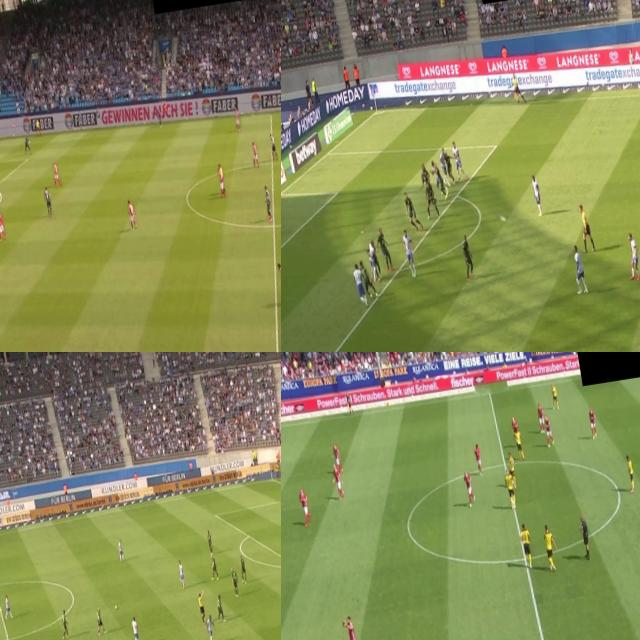ball: (500, 211, 508, 227), (114, 602, 120, 612), (512, 498, 516, 506)
player: (516, 524, 536, 571), (570, 244, 588, 296), (376, 228, 396, 274), (400, 229, 418, 279), (358, 258, 378, 302), (352, 264, 371, 308), (540, 521, 557, 568), (404, 189, 422, 232), (459, 233, 476, 278), (622, 448, 639, 493), (625, 231, 640, 281), (422, 181, 440, 219), (330, 453, 345, 498), (461, 467, 477, 507), (585, 401, 599, 444), (450, 138, 465, 178), (343, 615, 367, 640), (430, 158, 446, 195), (530, 173, 544, 214), (367, 239, 381, 280), (542, 412, 556, 452), (508, 410, 522, 449), (504, 467, 518, 506), (471, 437, 485, 476), (297, 485, 311, 524), (419, 162, 434, 198), (261, 180, 275, 218), (368, 244, 384, 276), (438, 145, 450, 187), (507, 448, 519, 488), (215, 162, 228, 198), (535, 397, 547, 435), (272, 255, 281, 303), (126, 194, 138, 230), (331, 438, 343, 474), (41, 183, 54, 216), (549, 379, 562, 412), (513, 426, 526, 459), (94, 603, 106, 636), (444, 152, 456, 184), (238, 550, 250, 581), (59, 606, 70, 639), (215, 592, 227, 622), (268, 129, 278, 159), (51, 158, 62, 185), (130, 613, 141, 640), (2, 592, 12, 620), (206, 615, 217, 640), (250, 139, 260, 166), (22, 130, 32, 156), (205, 530, 215, 556), (210, 553, 220, 578), (231, 570, 240, 596), (178, 561, 186, 589), (116, 538, 126, 559), (0, 204, 6, 237), (234, 108, 242, 128)
